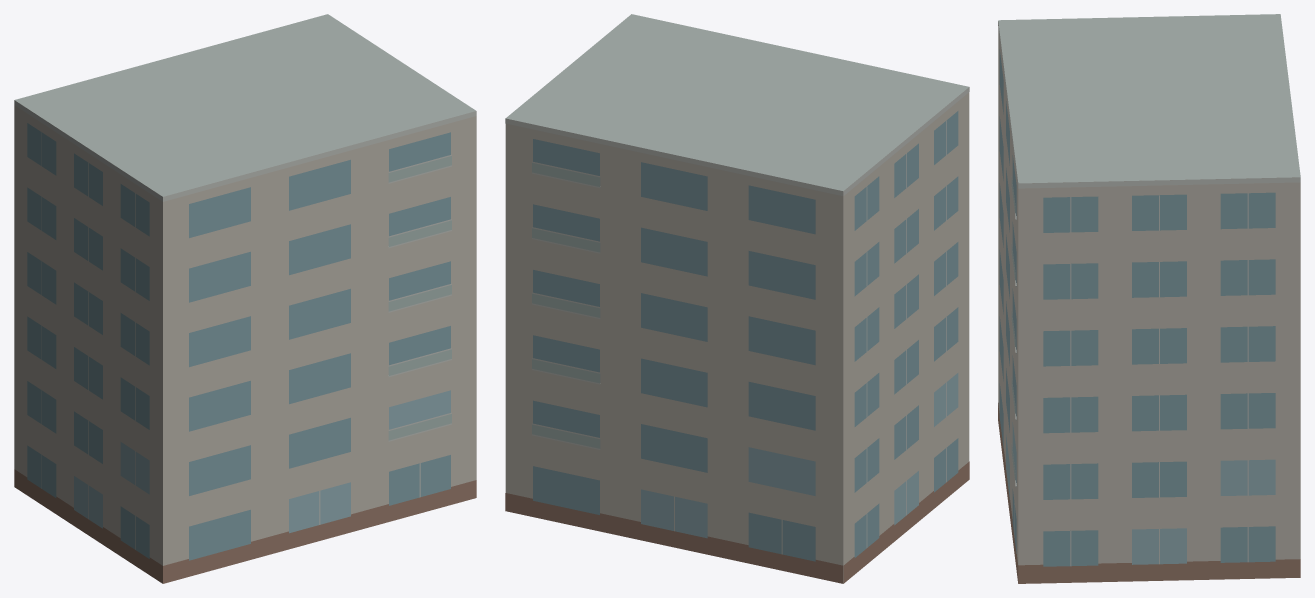
File: survey-upis-32732764.glb
3 renders of one model, left to right at view 1: azimuth 30°, elevation 25°; view 2: azimuth 150°, elevation 25°; view 3: azimuth 270°, elevation 25°, orthographic. The views are drawn at different scales.
Visible parts, largest first — view 1: survey-upis-32732764.tmp; view 2: survey-upis-32732764.tmp; view 3: survey-upis-32732764.tmp.
Part boxes in pixels (left/top/right/bottom): survey-upis-32732764.tmp: left=14, top=14, right=476, bottom=583; survey-upis-32732764.tmp: left=505, top=14, right=969, bottom=583; survey-upis-32732764.tmp: left=998, top=14, right=1300, bottom=583.
Bounding box in the file's own units: 17.07 × 18.8 × 12.88.
